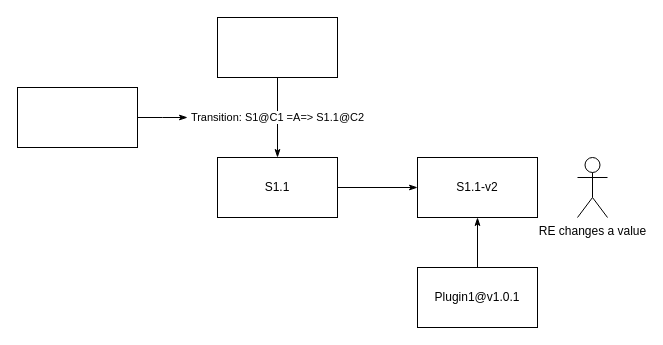
Image size: 663x345. Some labels were removed from this diagram. Here are the shapes that lost their labels. From the top down, the centre of each, then its label:
point 277,47: S1
point 77,117: Plugin1@v1.0.0
